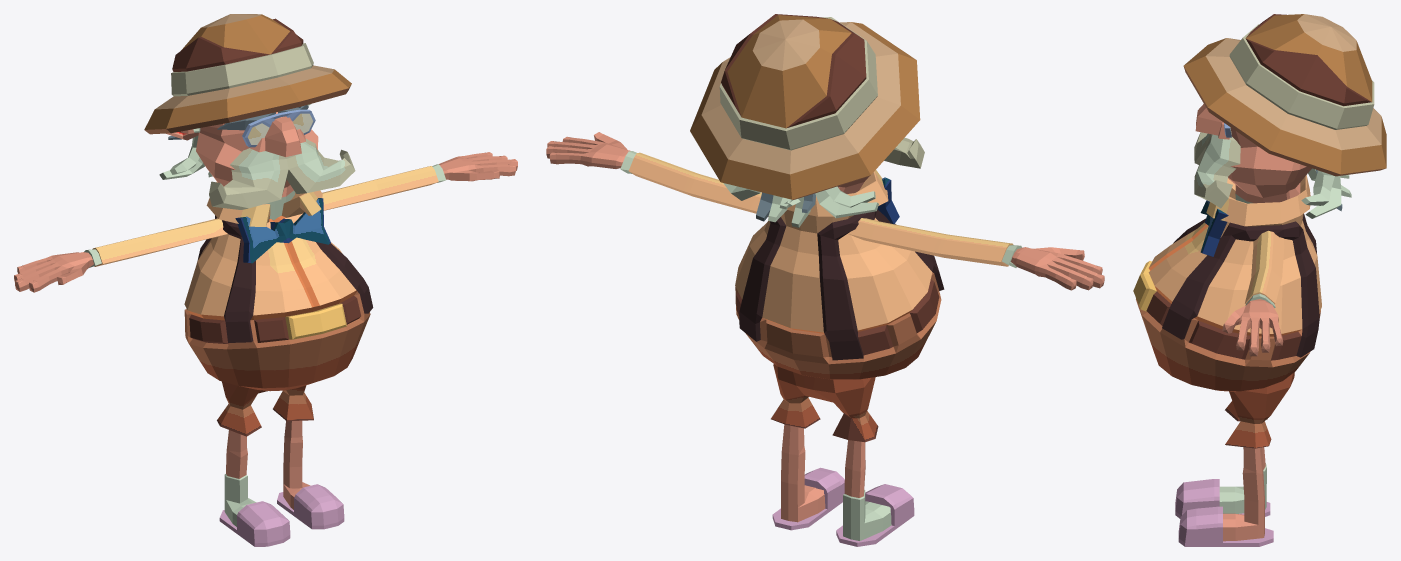
File: Porter.FBX
The picture shows the model from 3 angles, left to right: view 1: azimuth 30°, elevation 25°; view 2: azimuth 150°, elevation 25°; view 3: azimuth 270°, elevation 25°; orthographic projection. The views are drawn at different scales.
Parts seen in each view (by area): view 1: Porter; view 2: Porter; view 3: Porter.
Part boxes in pixels (x1,y1,x2,y2): Porter: [14, 14, 517, 546]; Porter: [546, 14, 1104, 546]; Porter: [1133, 14, 1386, 546].
Bounding box in the file's own units: 802 × 331 × 729.
Materials: 1 (1 with a texture image).
